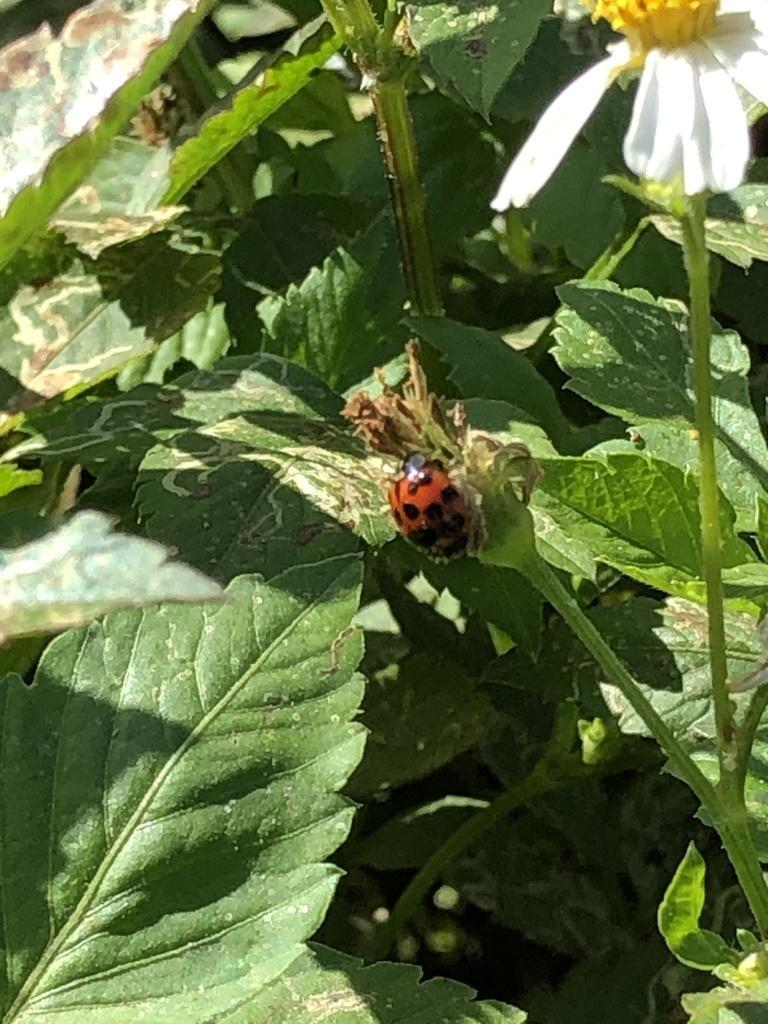ladybug: (388, 450, 473, 559)
